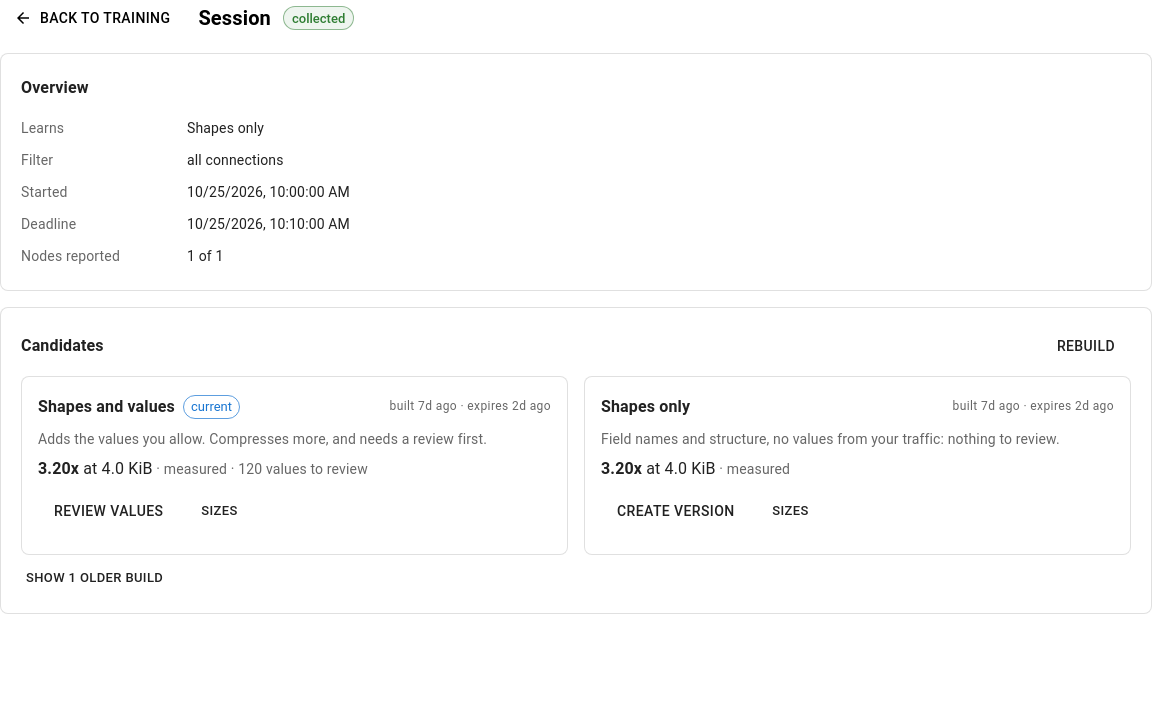
Test: SessionDetail › shows the current candidates and folds the rest
Expected: the number of buttons "Review values" is 1, [38, 493, 179, 530]
Expected: the text "Wire" is not shown
Click the button "Sizes" below "· 120 values to review" at {"x": 219, "y": 511}, box [187, 496, 251, 527]
(page scrolled)
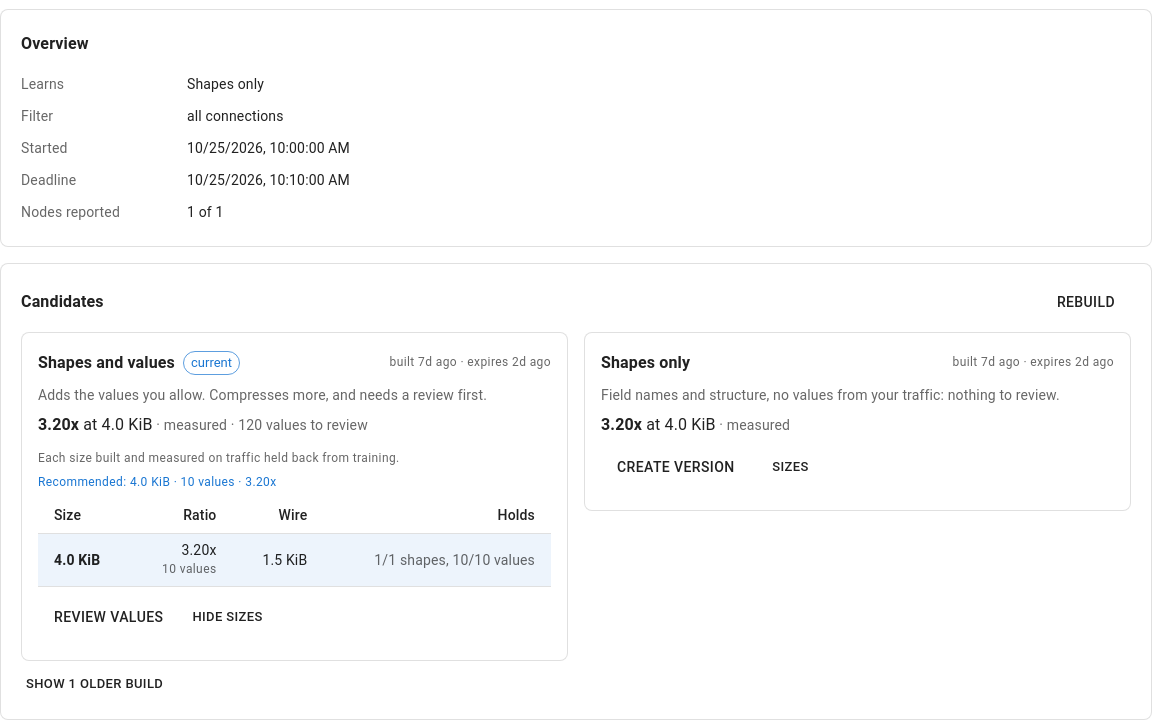
Now the column heading "Wire" is shown, box [232, 497, 323, 533]
Click the button "Show 1 older build" at {"x": 95, "y": 684}, box [21, 669, 168, 699]
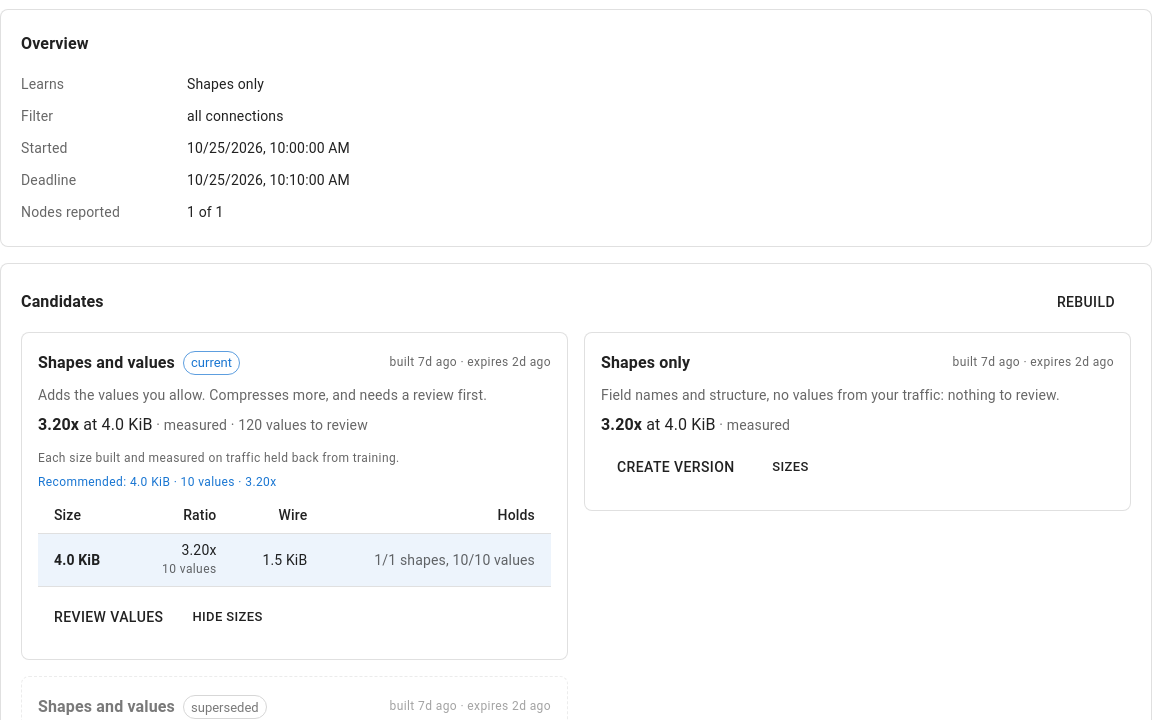
Now the number of buttons "Review values" is 2
